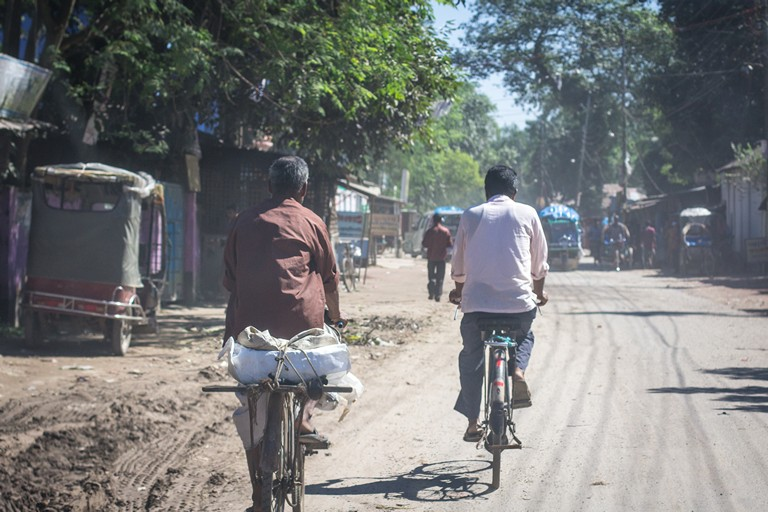bicycle: (200, 371, 354, 512), (450, 294, 538, 489)
easybike: (17, 160, 168, 351), (544, 214, 585, 268)
